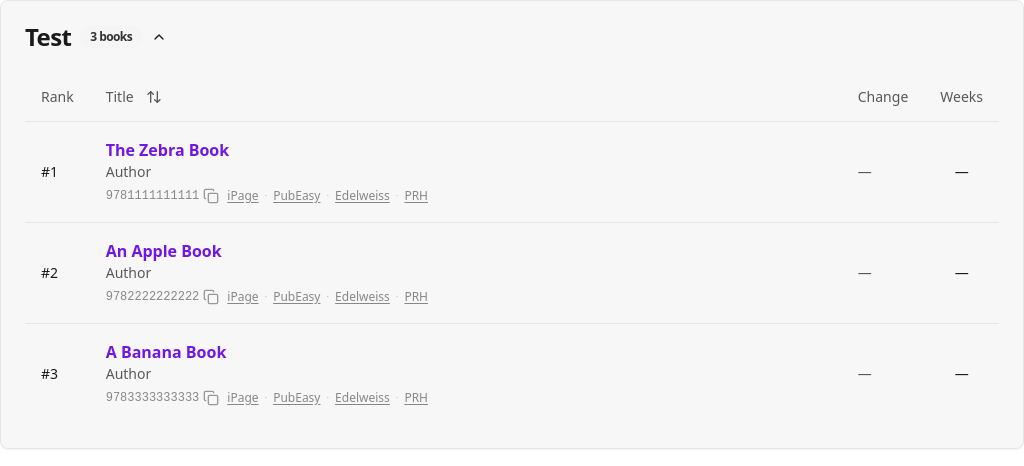
Scenario: BestsellerTable › sorting › should remove articles (A, An, The) when sorting by title
This screenshot has width=1024, height=466.
Click the button named "Sort by title" at (154, 97), box [142,85,166,109]
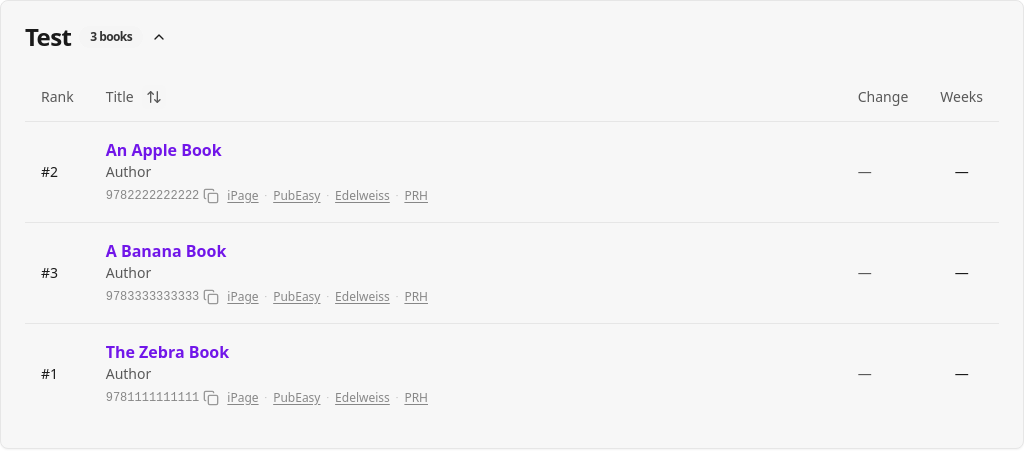
expect the row that starts with "An Apple Book" is shown: met, box [106,138,826,162]
expect the row that starts with "A Banana Book" is shown: met, box [106,238,826,262]
expect the row that starts with "The Zebra Book" is shown: met, box [106,340,826,364]
